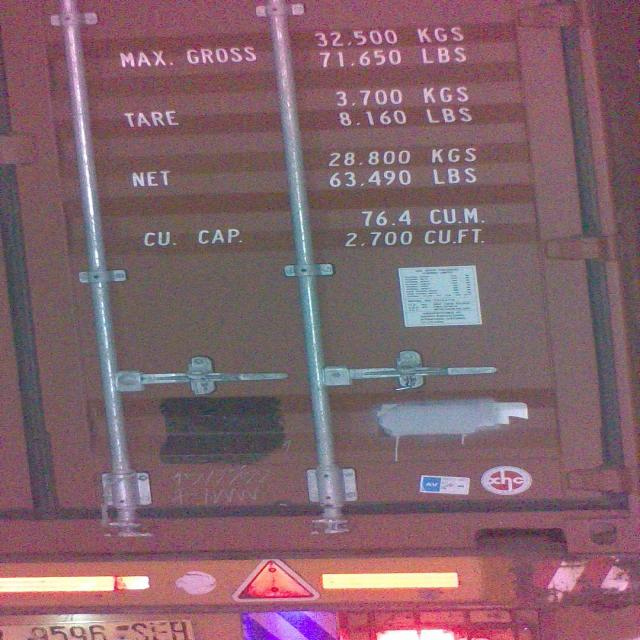seal: (183, 371, 224, 402)
